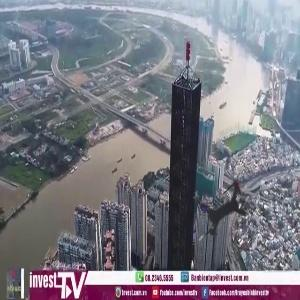drone: (161, 144, 288, 271)
